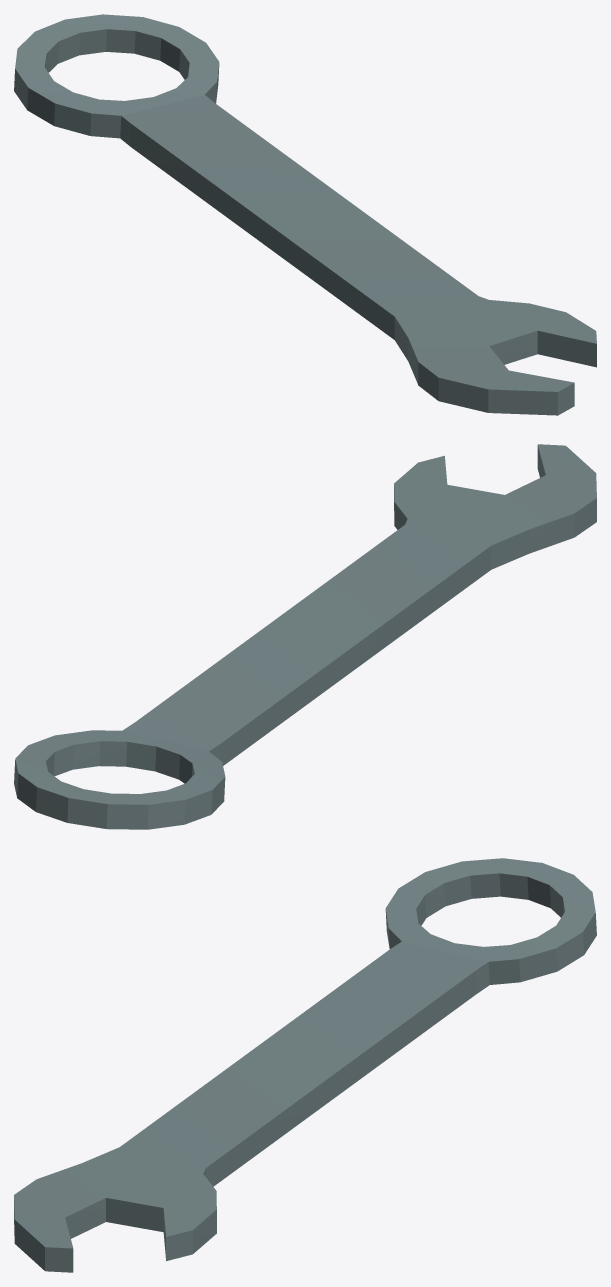
File: WrenchCombination.fbx
The picture shows the model from 3 angles, top to bottom: view 1: azimuth 30°, elevation 25°; view 2: azimuth 150°, elevation 25°; view 3: azimuth 330°, elevation 25°; orthographic projection. The views are drawn at different scales.
Parts seen in each view (by area): view 1: WrenchCombination; view 2: WrenchCombination; view 3: WrenchCombination.
Boxes of the visible parts, x1=… form: WrenchCombination: x1=14, y1=14, x2=596, y2=415; WrenchCombination: x1=14, y1=444, x2=596, y2=829; WrenchCombination: x1=14, y1=858, x2=596, y2=1272.
Size of the model in its own units: 22.75 by 4.63 by 105.
